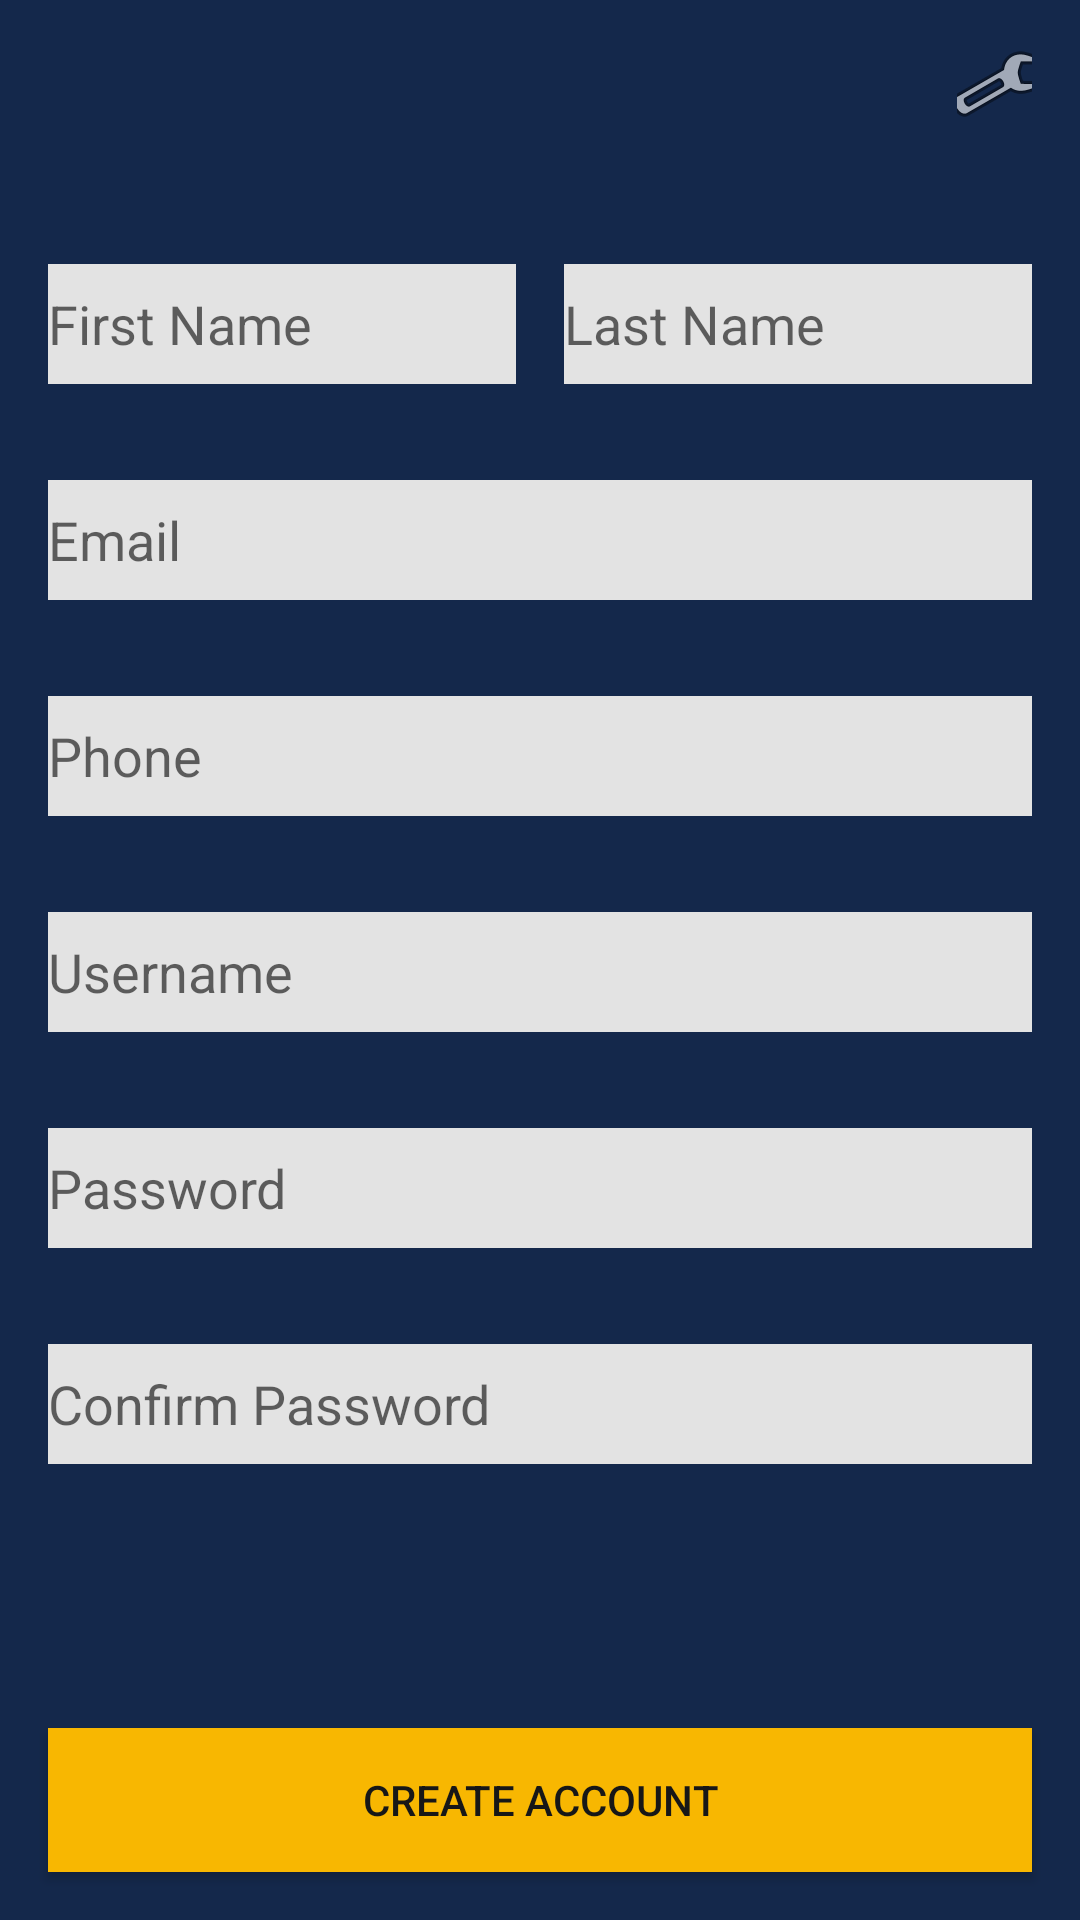

Icon click points for this 1080px×1920px phone screenshot, format point (x, y):
manage: point (994, 84)
